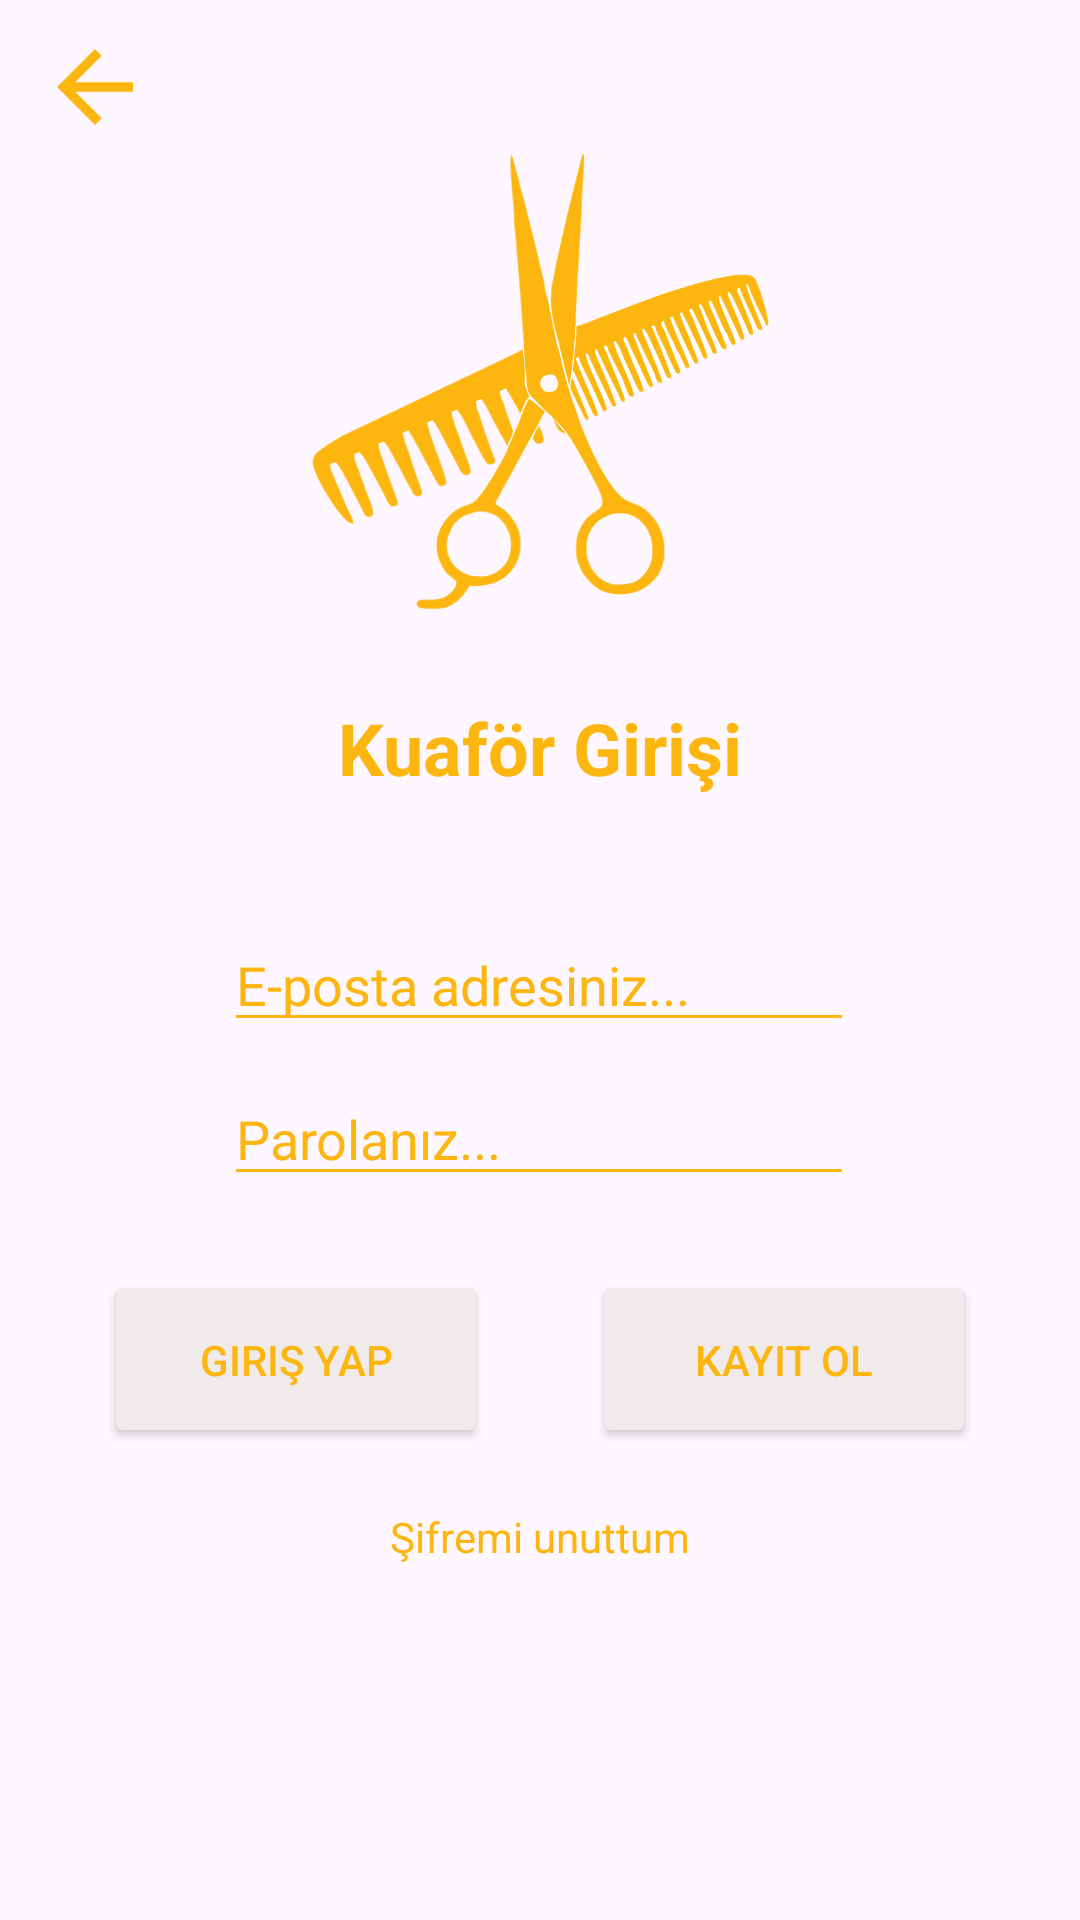

Locate icon controls on the screen. Image size 1080px x 1920px, boxes as (x1, y1, x2, y2).
arrow back: (57, 49, 133, 125)
